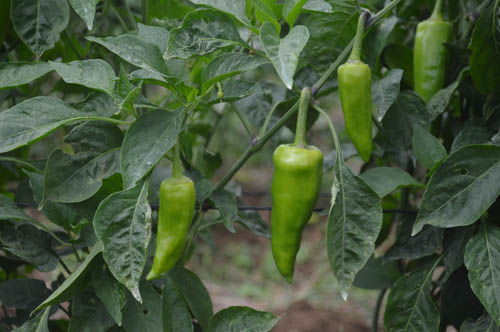ChiliPepper: (269, 146, 320, 289), (151, 177, 197, 282), (410, 23, 451, 131), (337, 61, 372, 164)
